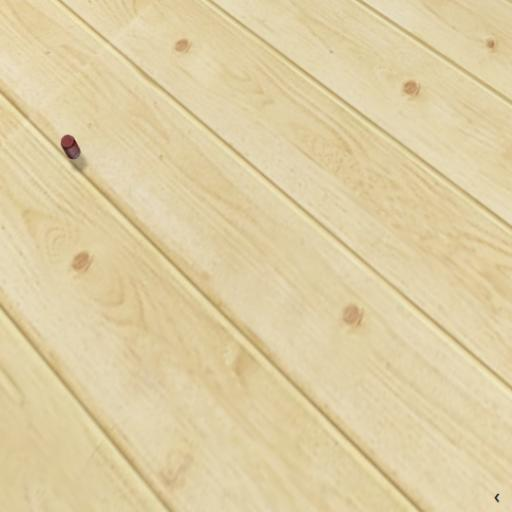COCA: (53, 125, 93, 177)
